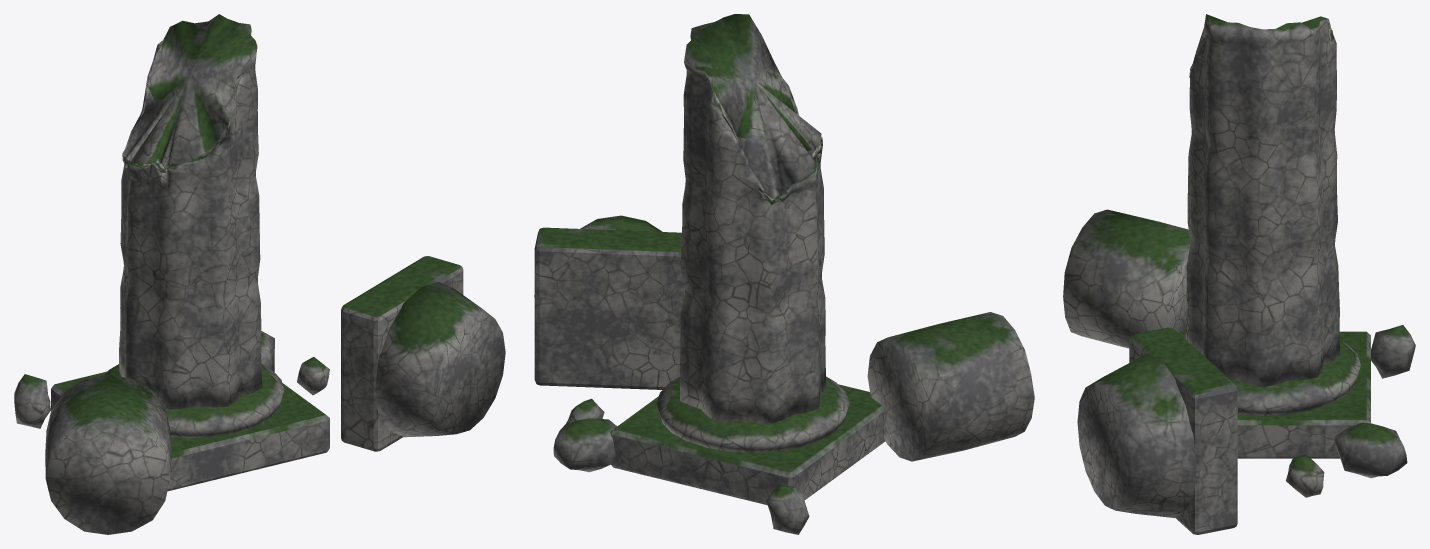
Rendered from broken_pillar.glb.
The picture shows the model from 3 angles, left to right: view 1: azimuth 30°, elevation 25°; view 2: azimuth 150°, elevation 25°; view 3: azimuth 270°, elevation 25°; orthographic projection. The views are drawn at different scales.
Parts seen in each view (by area): view 1: broken_pillar; view 2: broken_pillar; view 3: broken_pillar.
Boxes of the visible parts, x1,y1,x2,y2 form: broken_pillar: (14,14,505,534); broken_pillar: (534,14,1034,534); broken_pillar: (1063,14,1415,534).
Bounding box in the file's own units: 3.86 × 3.27 × 2.44.
Materials: 1 (1 with a texture image).
